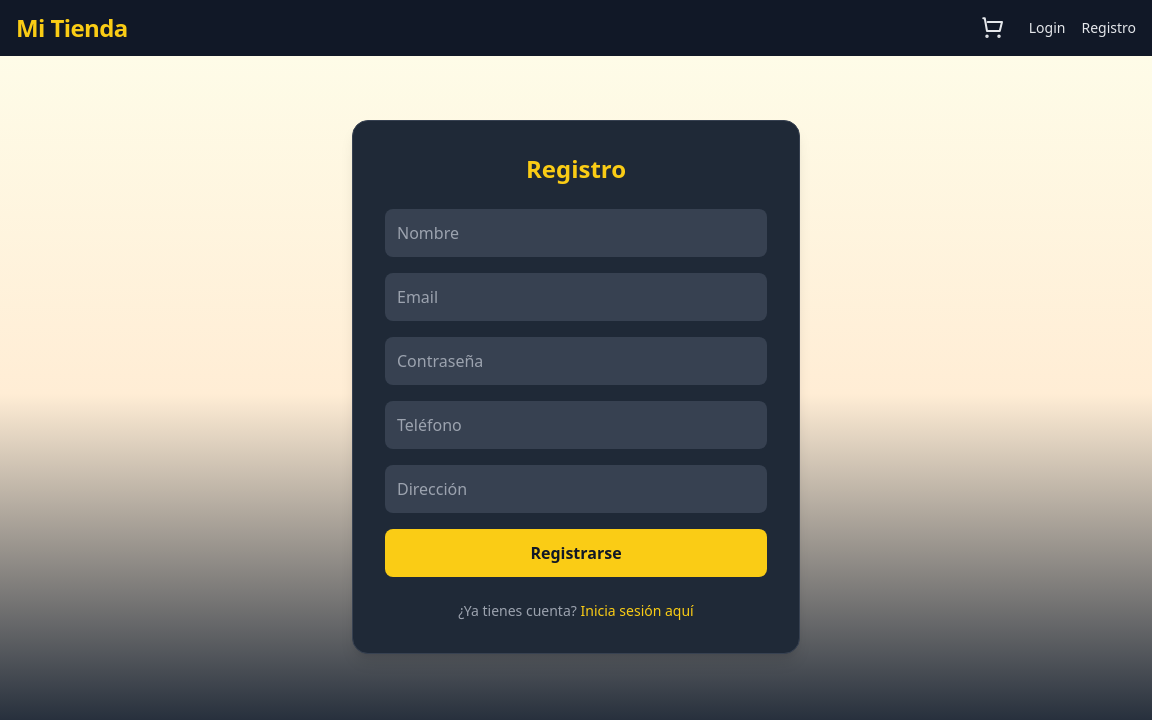
it: verifico registrar y flujo › register página aislada y funcional
Expected: the button "Registrarse" is shown, x1=385 y1=529 x2=767 y2=577
# Completo el form con datos de prueba
Type "Juan Pérez" into the field with test id "register-name". click: (576, 233)
box: x1=385 y1=209 x2=767 y2=257
Type "juan@test.com" into the field with test id "register-email". click: (576, 297)
box: x1=385 y1=273 x2=767 y2=321
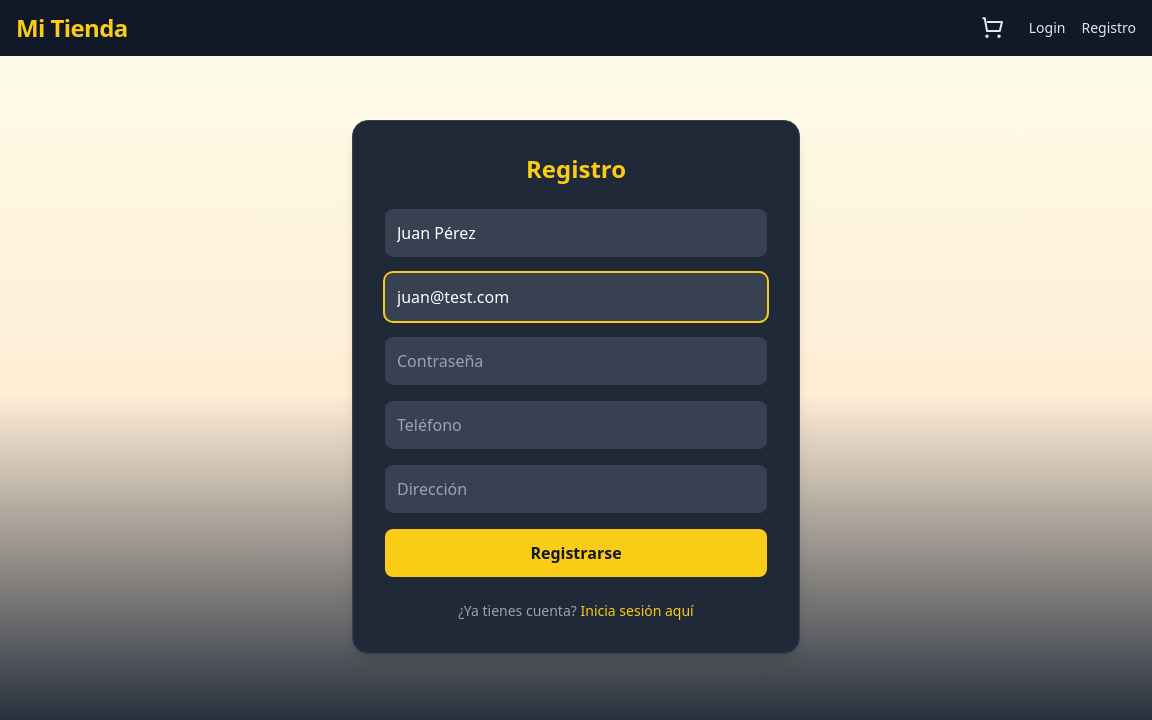
Type "juan123!!" into the password field with test id "register-password". click: (576, 361)
box: x1=385 y1=337 x2=767 y2=385
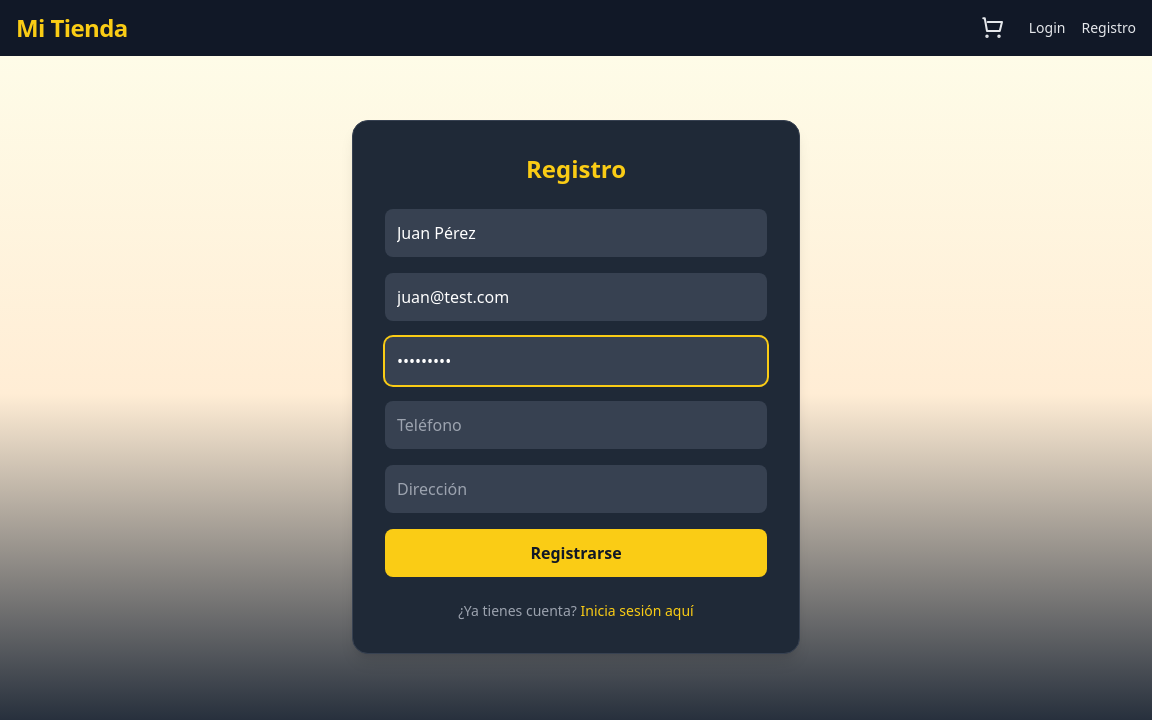
Type "444333" into the field with test id "register-phone". click: (576, 425)
box: x1=385 y1=401 x2=767 y2=449
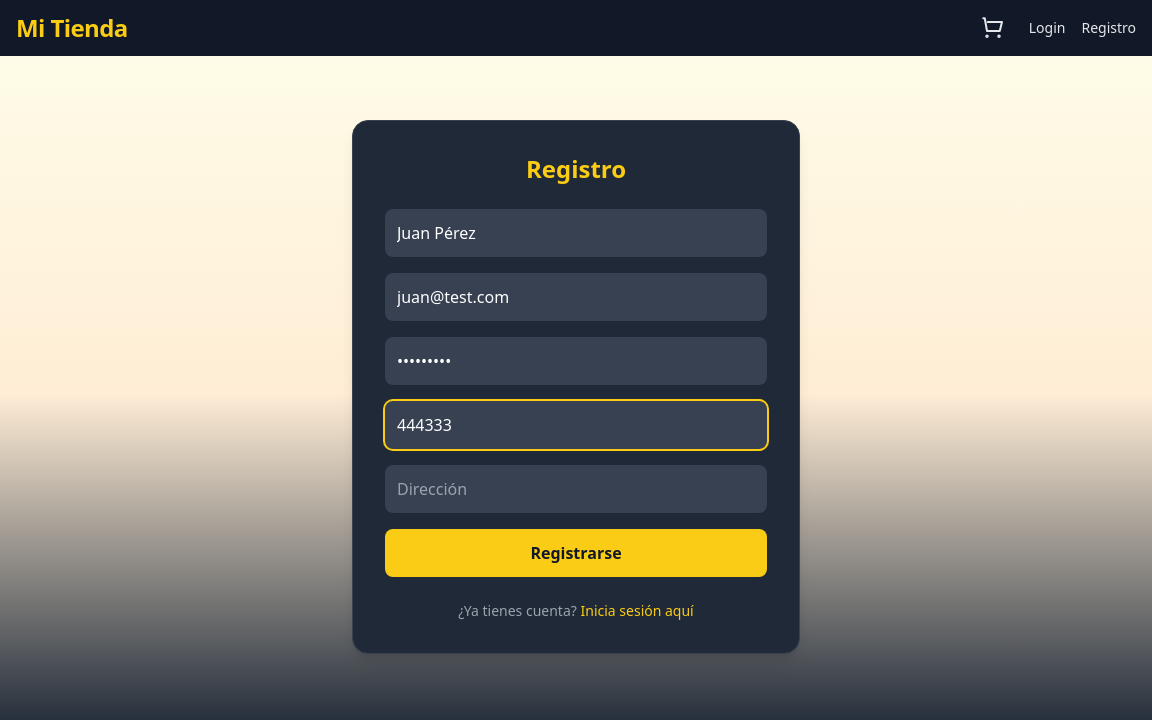
Type "calle 1234" into the field with test id "register-address". click: (576, 489)
box: x1=385 y1=465 x2=767 y2=513
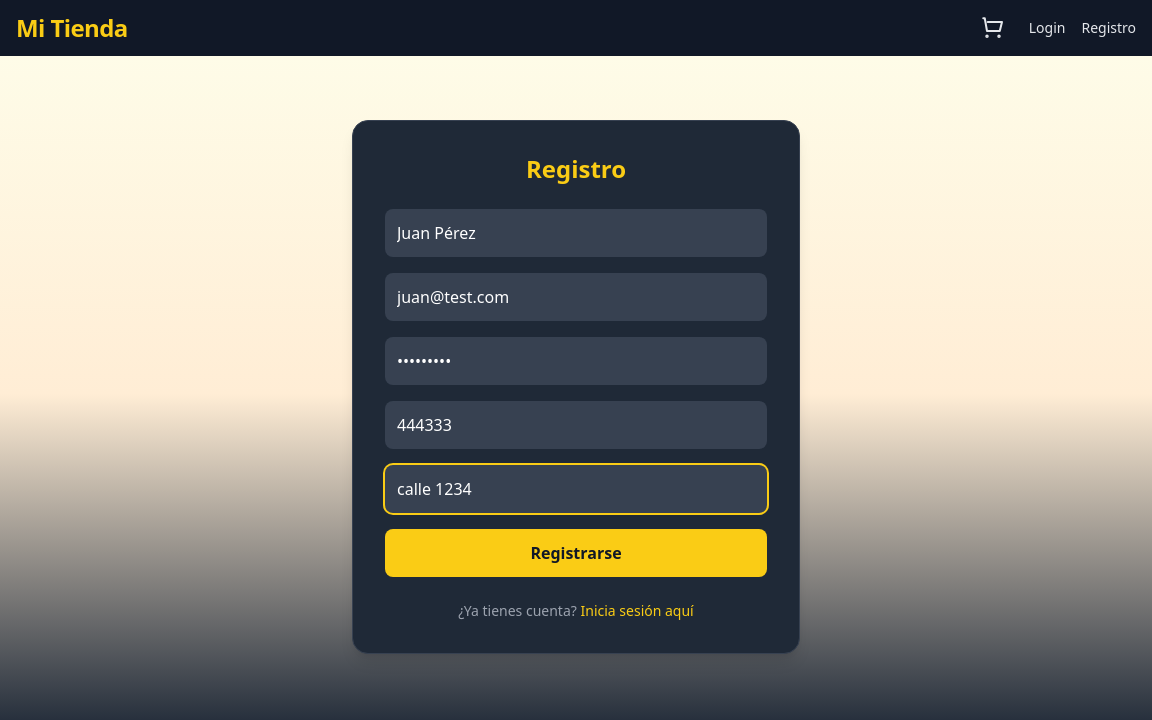
Click the button "Registrarse". click: click(576, 553)
box: x1=385 y1=529 x2=767 y2=577
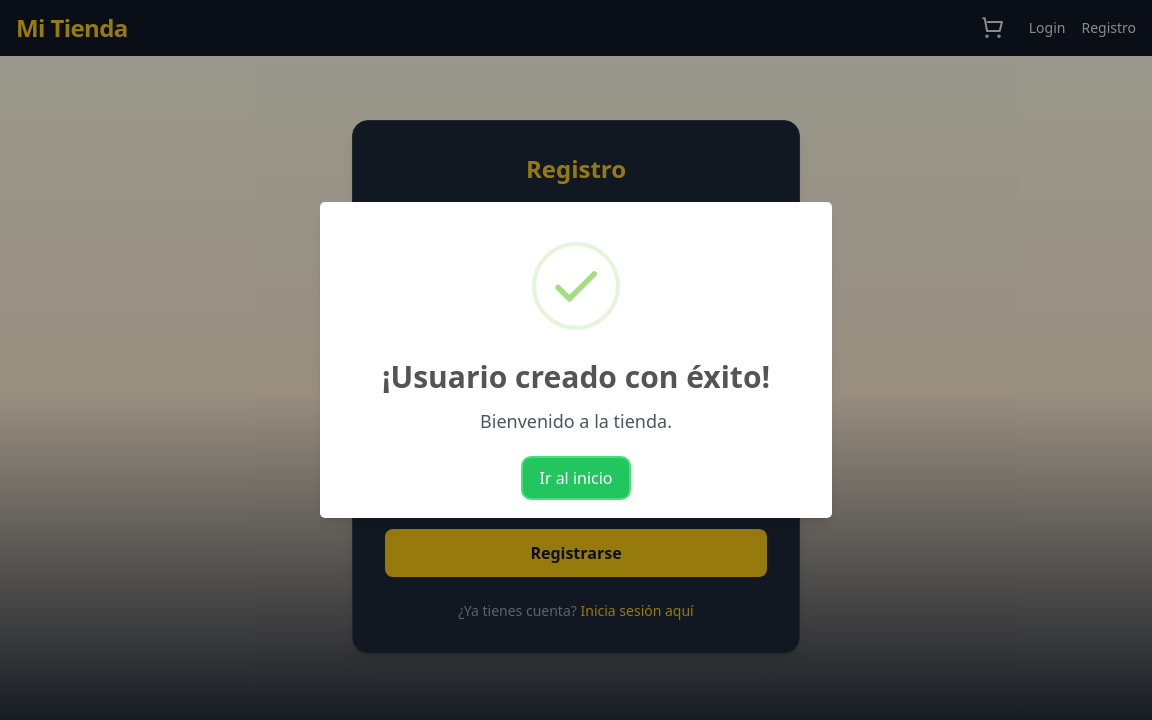
Expected: the heading "¡Usuario creado con éxito!" is shown, x1=382 y1=356 x2=770 y2=397
Click the button "Ir al inicio". click: click(577, 479)
box: x1=524 y1=459 x2=629 y2=499
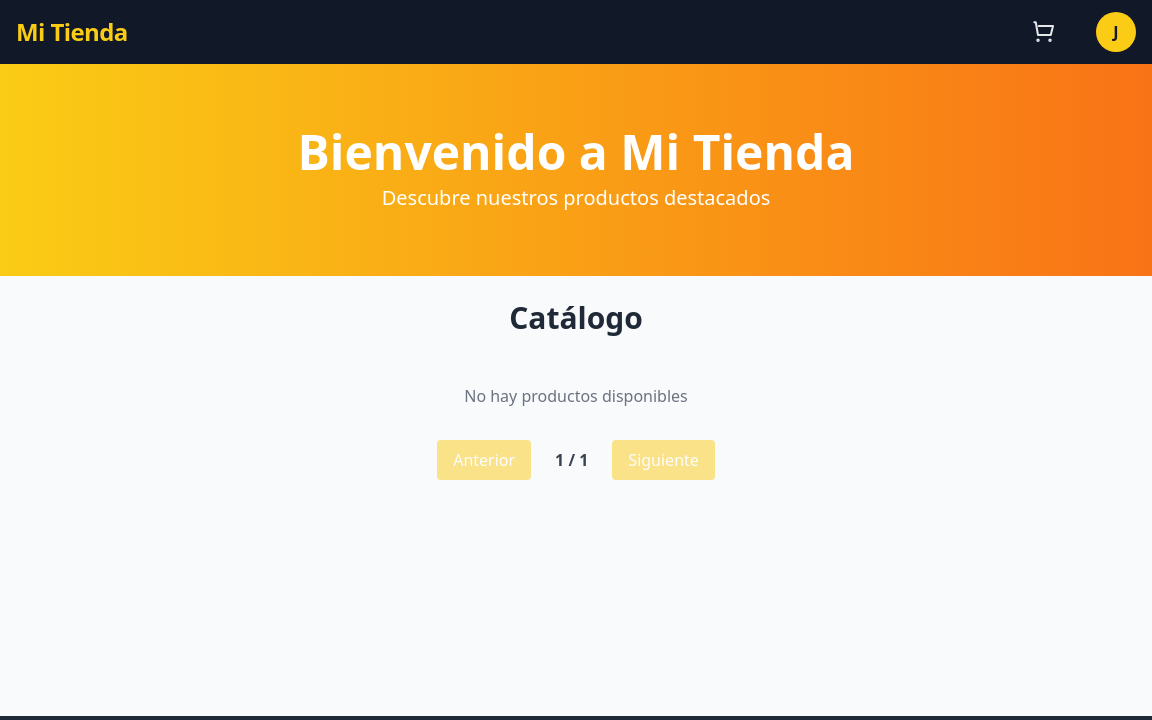
Expected: the text "J" is shown, x1=1096 y1=12 x2=1136 y2=52
